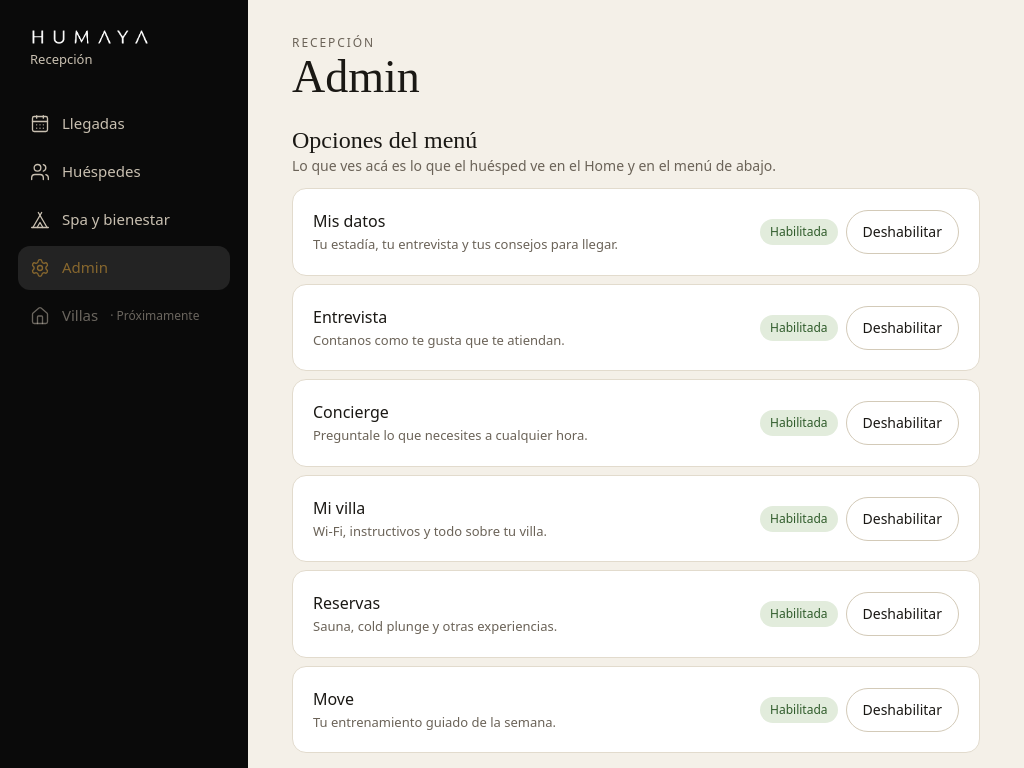
Test: opciones del menú › deshabilitar una opción la saca de la lista del Home del huésped
The width and height of the screenshot is (1024, 768).
Click the button "Deshabilitar" in the row of "Tu entrenamiento guiado de la semana.".
click(902, 710)  # box [846,688,959,732]
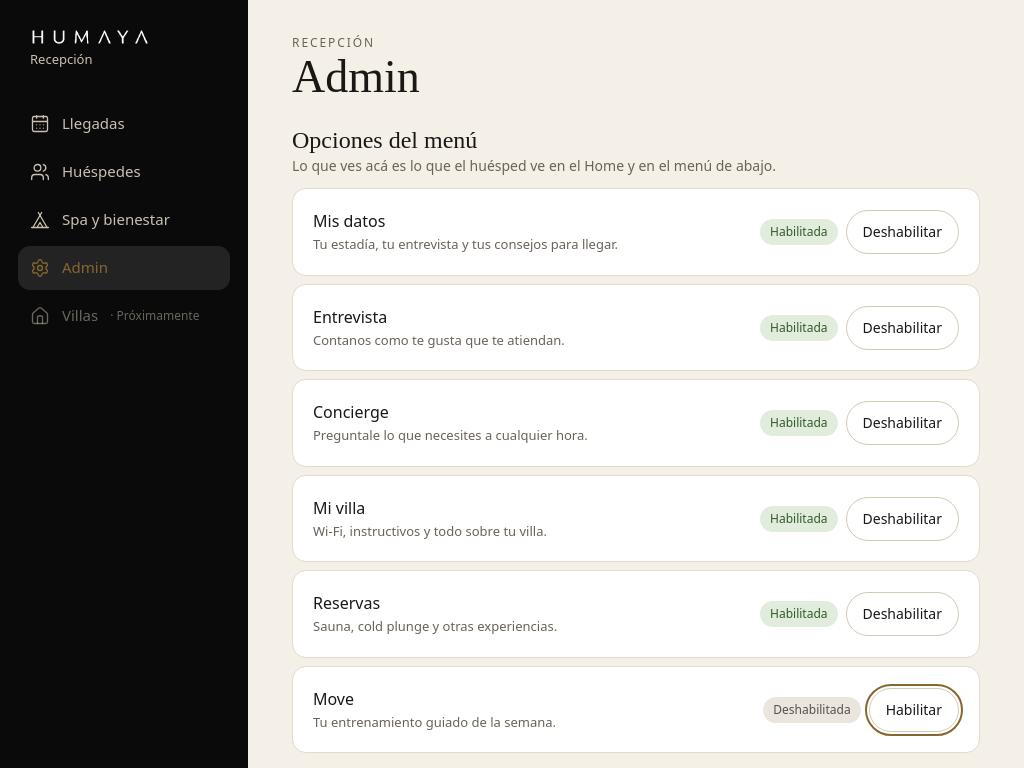
Expected: the button "Habilitar" is shown, [869,688,959,732]
Result: the text "Deshabilitada" is shown at [763,697,861,723]
